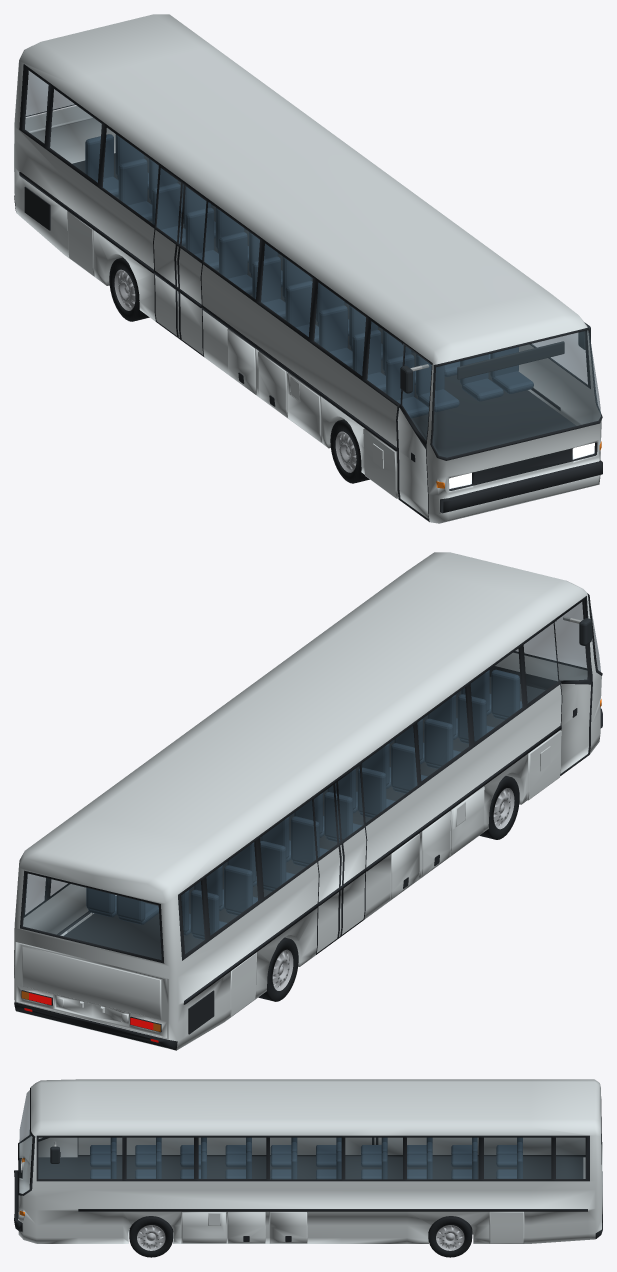
File: road-coach.glb
3 views of the same model, one above another, from view 1: azimuth 30°, elevation 25°; view 2: azimuth 150°, elevation 25°; view 3: azimuth 270°, elevation 25° (orthographic). The views are drawn at different scales.
Visible parts, largest first — view 1: Bus_Body, CabinFloor, Wheel_FL, Wheel_RL, DestinationPanel, SeatBack.032, SeatBack.020, SeatBack.008, SeatBack.024, SeatBack.028, SeatBack.012, SeatBack.004 (+4 smaller); view 2: Bus_Body, CabinFloor, Wheel_RL, Wheel_FL, SeatBack.008, SeatBack, SeatBack.032, SeatBack.016, SeatBack.024, SeatBack.020, SeatBack.012, SeatBack.028 (+2 smaller); view 3: Bus_Body, CabinFloor, Wheel_FR, Wheel_RR, Seat.017, Seat.021, Seat.005, Seat.033, Seat.037, Seat.001, Seat.013, Seat.025 (+1 smaller).
Boxes of the visible parts, x1,y1,x2,y2 form: Bus_Body: (14,14,602,523); CabinFloor: (72,153,575,457); Wheel_FL: (330,419,369,483); Wheel_RL: (109,257,149,321); DestinationPanel: (457,341,564,379); SeatBack.032: (118,158,147,205); SeatBack.020: (219,232,247,278); SeatBack.008: (319,305,347,351); SeatBack.024: (185,207,214,254); SeatBack.028: (152,183,180,229); SeatBack.012: (285,280,312,327); SeatBack.004: (352,329,381,375); Bus_Body: (14,552,602,1050); CabinFloor: (64,677,545,959); Wheel_RL: (258,937,298,1001); Wheel_FL: (479,776,519,839); SeatBack.008: (424,718,453,766); SeatBack: (491,669,519,717); SeatBack.032: (224,865,252,913); SeatBack.016: (357,767,386,815); SeatBack.024: (291,816,319,864); SeatBack.020: (324,792,352,840); SeatBack.012: (391,743,419,791); SeatBack.028: (260,841,286,889); Bus_Body: (14,1079,602,1243); CabinFloor: (38,1157,583,1179); Wheel_FR: (129,1216,173,1257); Wheel_RR: (428,1216,472,1257); Seat.017: (270,1154,291,1167); Seat.021: (316,1154,336,1167); Seat.005: (135,1154,155,1167); Seat.033: (451,1154,471,1167); Seat.037: (496,1154,516,1167); Seat.001: (90,1154,110,1167); Seat.013: (225,1154,245,1167); Seat.025: (361,1154,381,1167).
Bounding box in the file's own units: 2.95 × 2.95 × 12.
